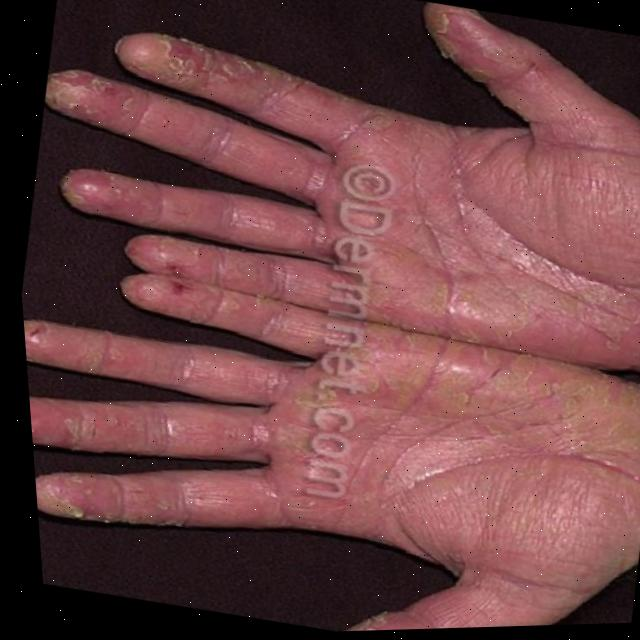Eczema: (327, 173, 640, 521), (29, 23, 277, 340), (23, 312, 187, 528), (427, 10, 531, 81), (335, 617, 414, 631)
